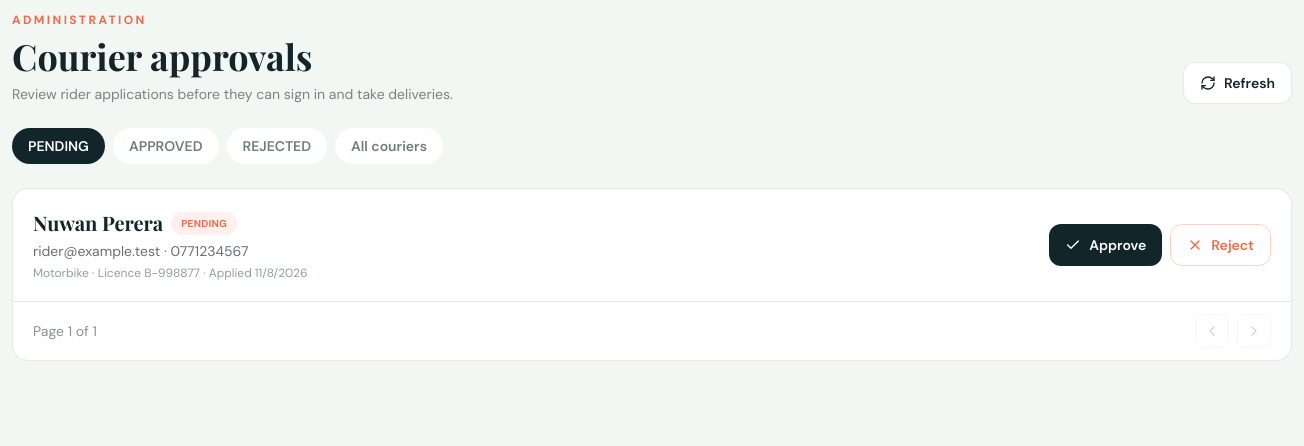
Test: CourierApprovalsPage › refreshes the current ALL filter when approval finishes after the filter changes
Check: the heading "Nuwan Perera" is shown, box [33,209,163,237]
What coordinates should you click on to do the following:
click the button "Approve"
I would click on:
 (1106, 245)
Its box is [1049,224,1162,266].
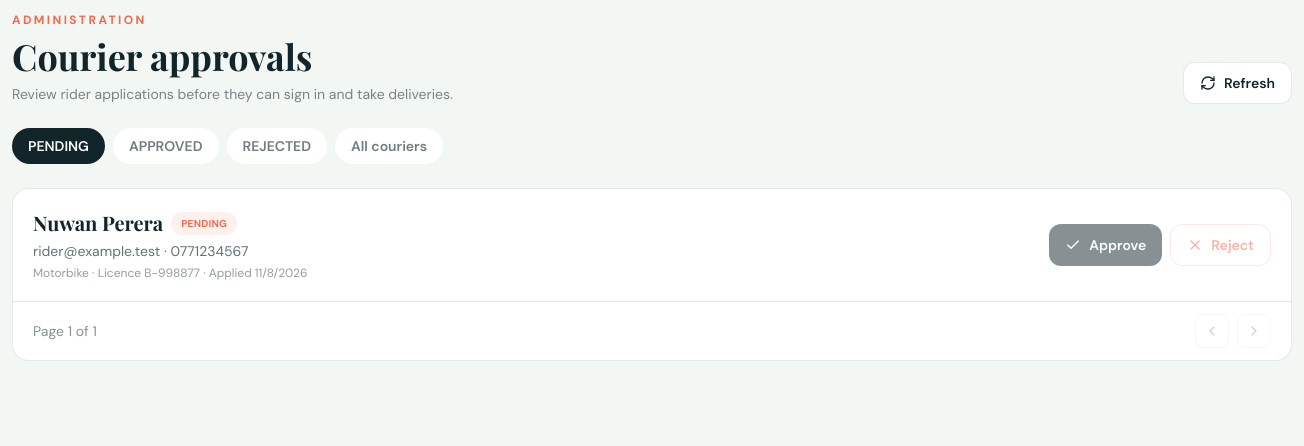
What coordinates should you click on to do the following:
click the button "All couriers"
I would click on:
 (389, 146)
Its box is [335,128,443,164].
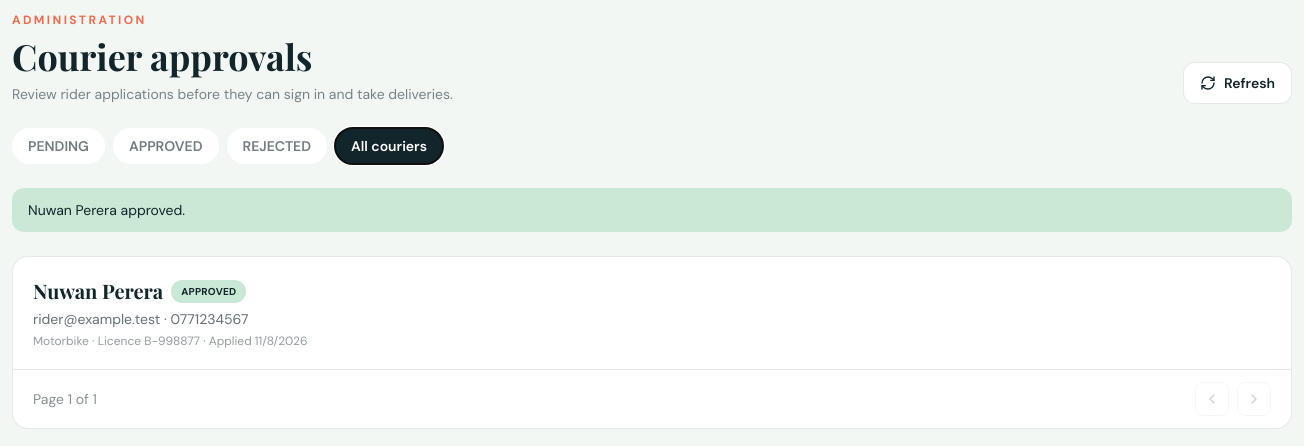
Check: the heading "Nuwan Perera" is shown, box [33,277,163,305]
Check: the message reads "Nuwan Perera approved.", box [28,201,185,219]
Check: the text "APPROVED" is shown, box [171,280,246,302]
